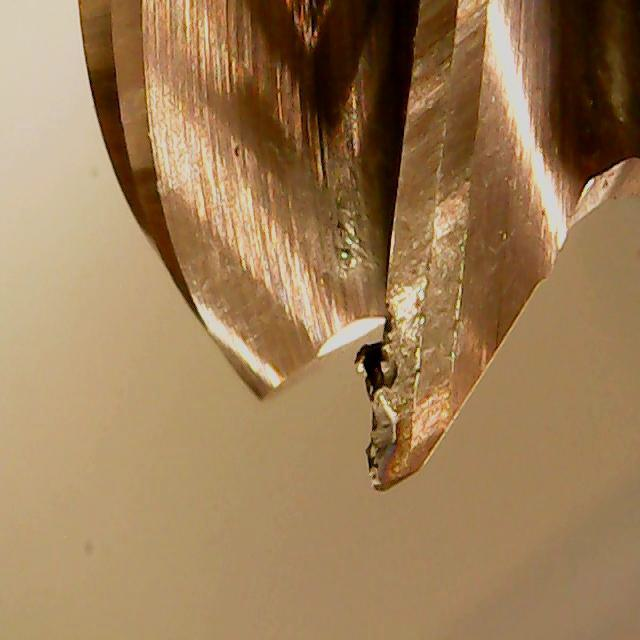Tool-wear-class-1: (350, 252, 477, 493)
